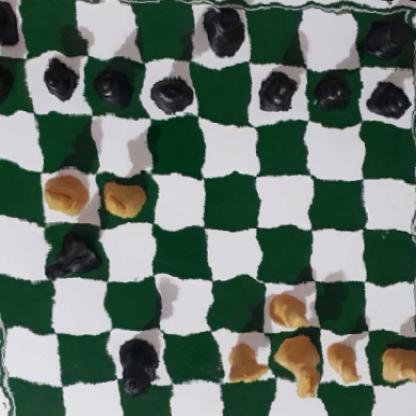black-bishop: (153, 70, 196, 118)
black-king: (194, 0, 248, 54)
black-knight: (41, 229, 99, 283)
black-pawn: (34, 58, 83, 104), (366, 72, 409, 122), (255, 69, 300, 116), (92, 64, 136, 107), (312, 73, 356, 112), (0, 61, 19, 99)
black-queen: (112, 336, 168, 398)
black-rook: (361, 11, 416, 60), (0, 0, 23, 49)
white-bishop: (97, 177, 149, 224), (40, 175, 90, 219)
white-king: (277, 333, 322, 395)
white-knight: (219, 340, 276, 389)
white-pawn: (323, 336, 367, 382), (268, 288, 313, 330), (373, 341, 416, 383)
